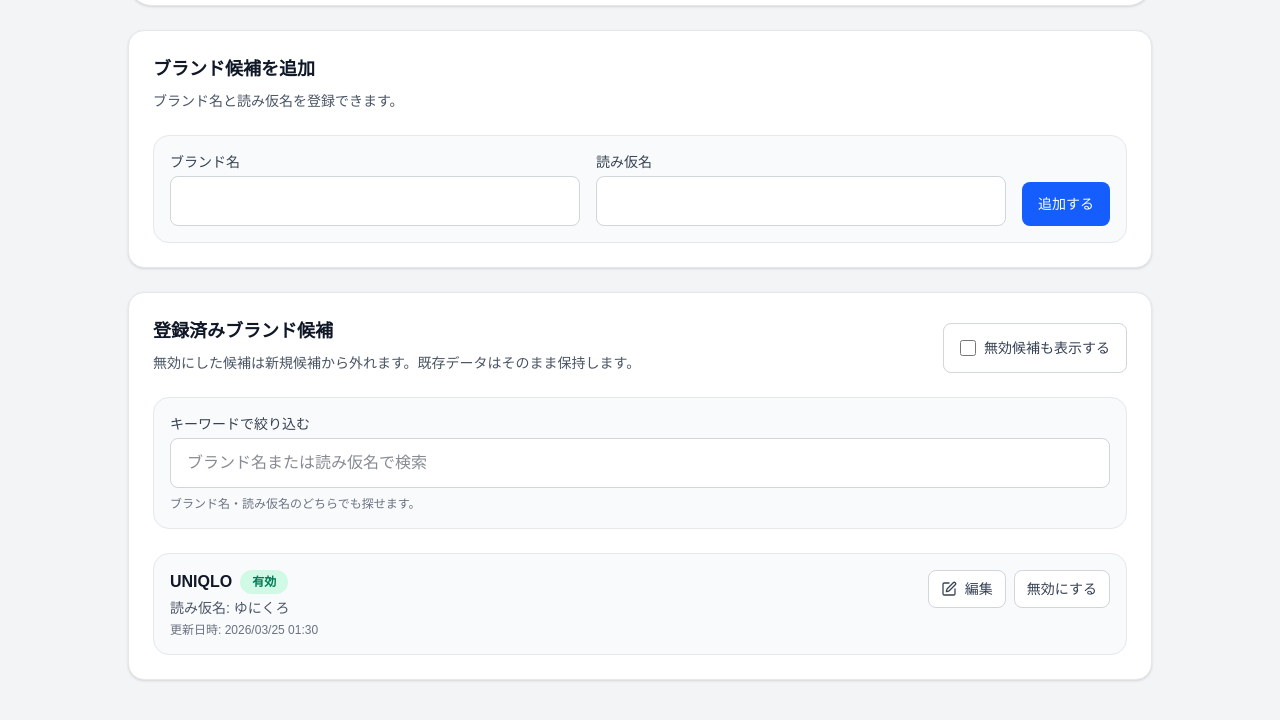
Test: SettingsBrandsPage › 有効 / 無効を切り替えられる
(page scrolled)
Click the button "無効にする": x=1062, y=589 [1014,570,1110,608]
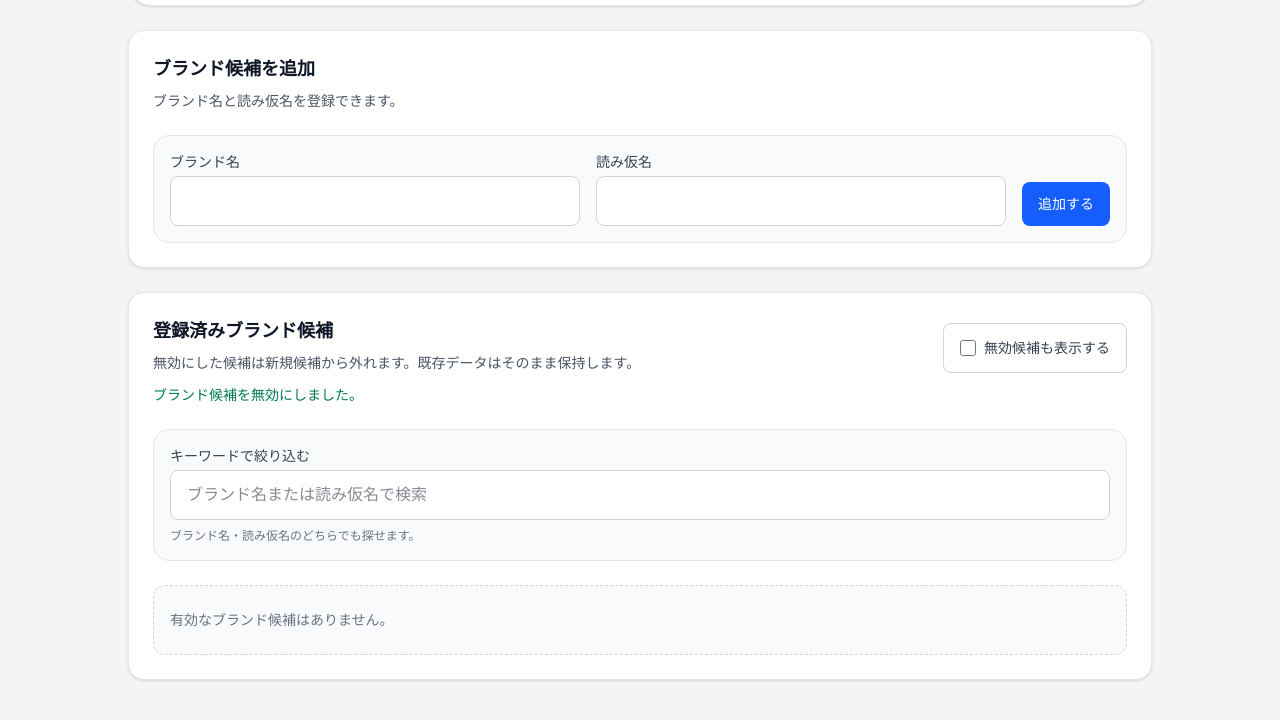
Check: the text "ブランド候補を無効にしました。" is shown, box [153,387,363,403]
